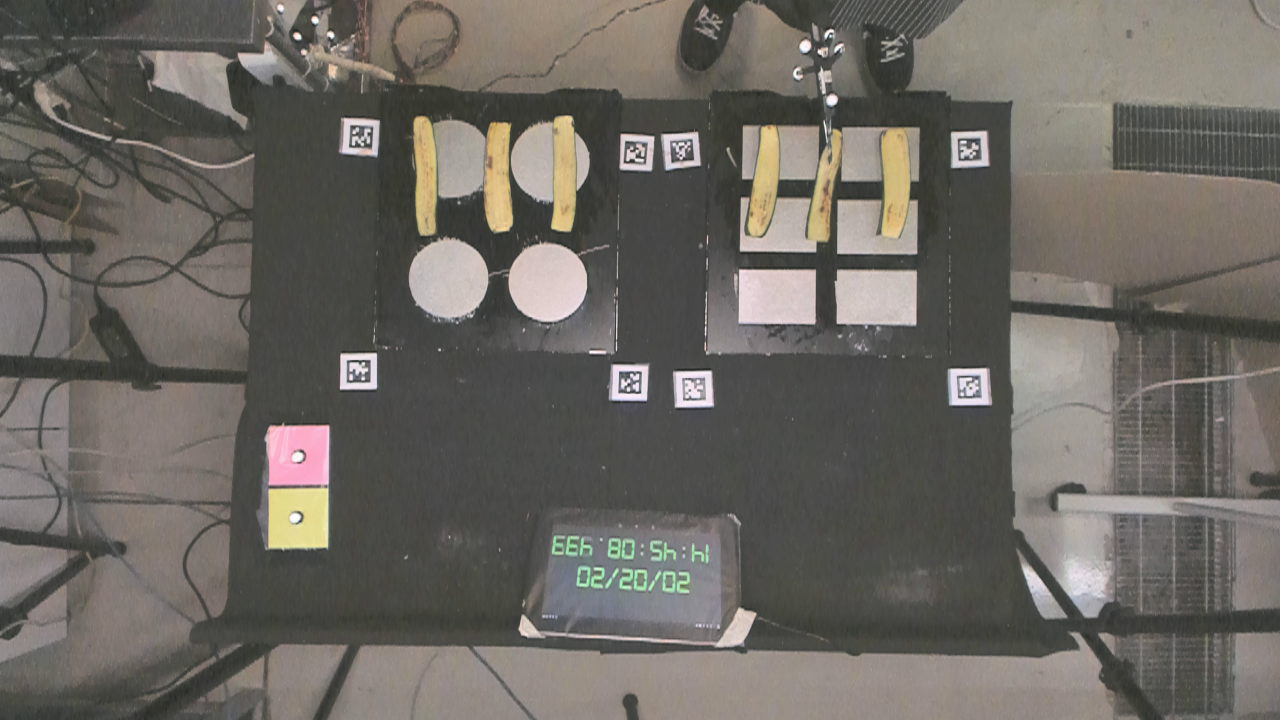marker: (267, 424, 330, 485)
zucchini: (803, 121, 842, 246), (875, 123, 915, 244), (742, 119, 781, 239), (546, 111, 582, 232), (484, 118, 518, 239), (410, 113, 441, 239)
